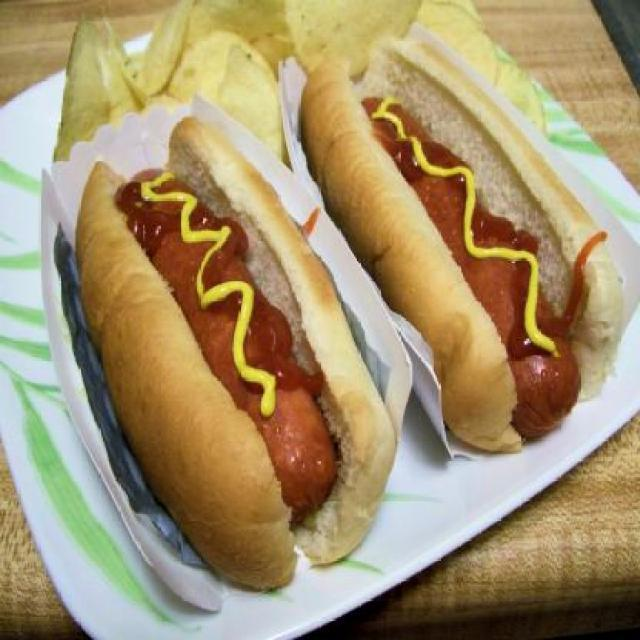Hot dog: (69, 110, 400, 592), (298, 35, 620, 451)
